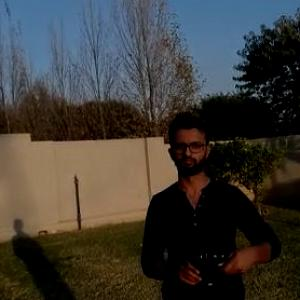follow: (138, 102, 287, 299)
